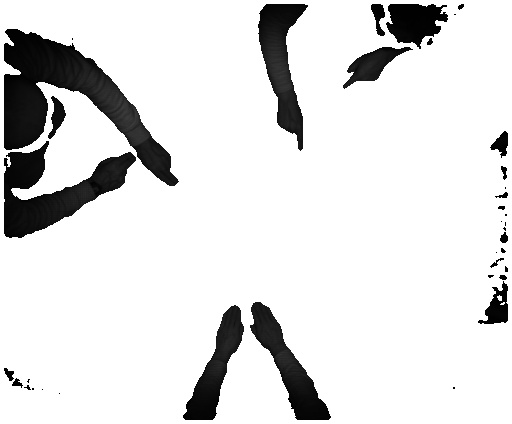hand: (248, 304, 295, 352), (92, 152, 138, 198), (208, 304, 247, 357), (336, 53, 385, 95), (141, 142, 183, 191), (272, 97, 303, 151)
